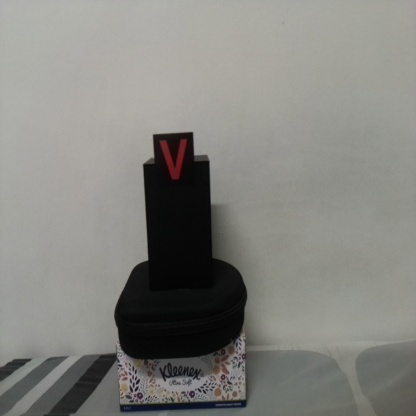id_11: (152, 135, 195, 189)
